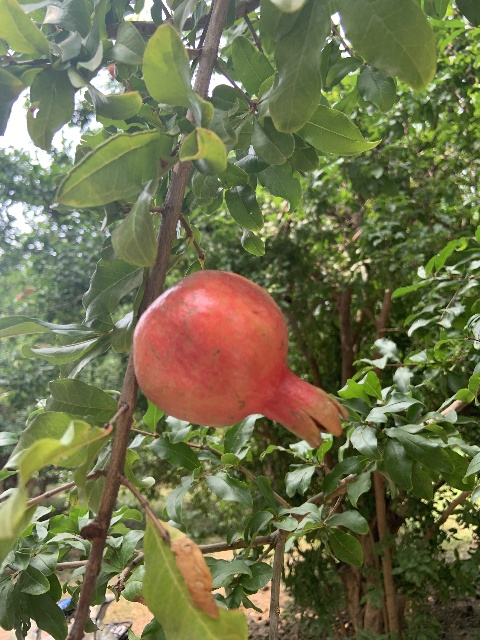ripe: (131, 270, 348, 446)
